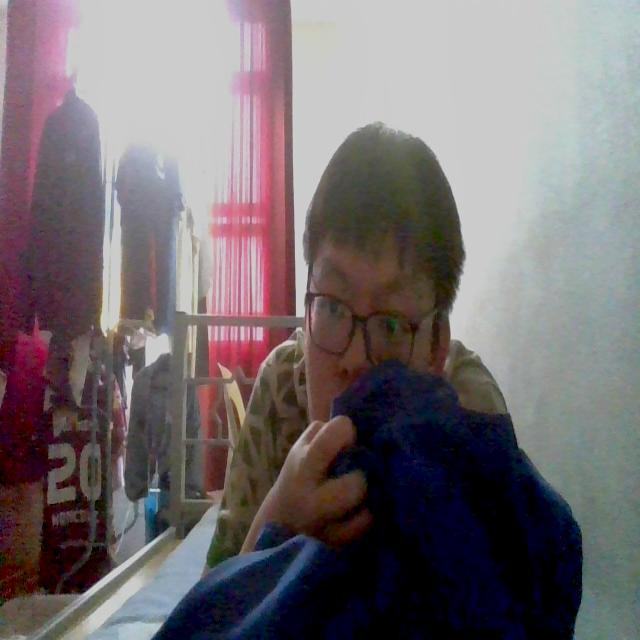person_without_labcoat: (154, 124, 582, 639)
